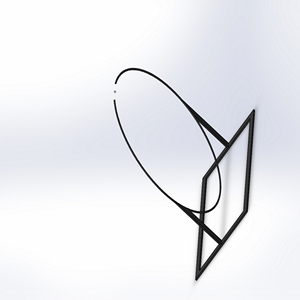circle: (111, 66, 258, 281)
